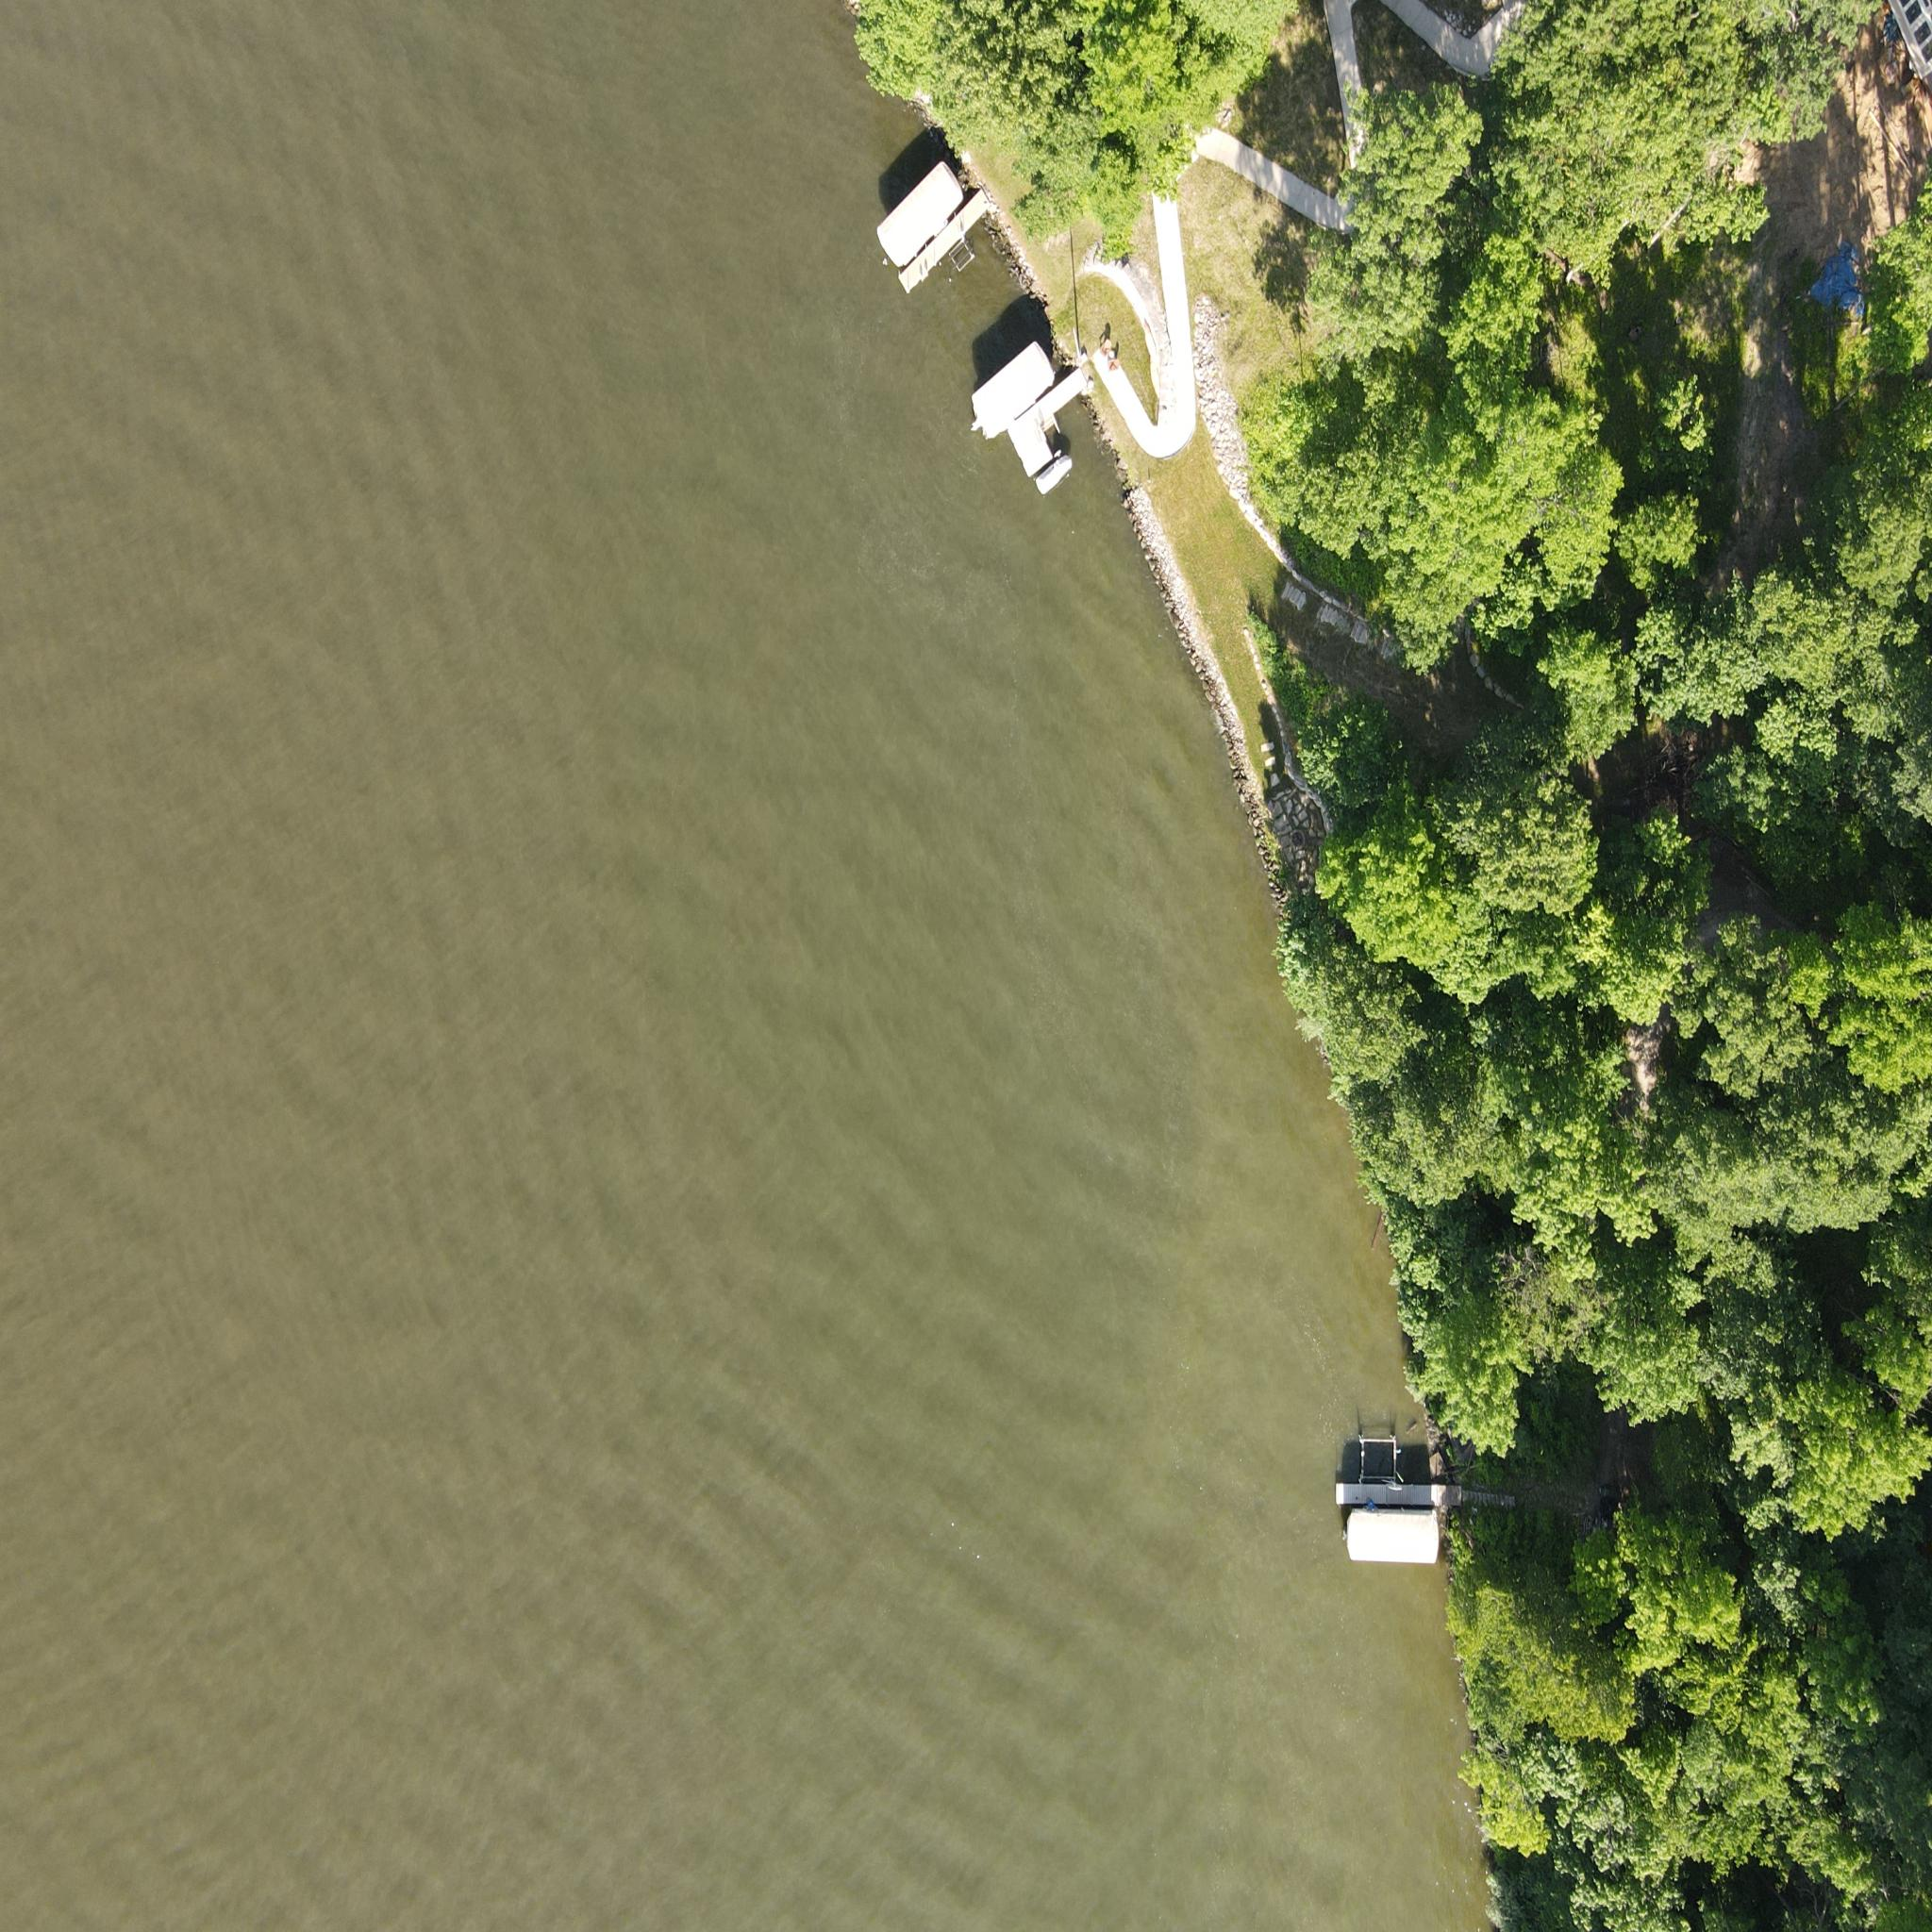dock: (987, 347, 1092, 483), (895, 175, 994, 301), (1322, 1460, 1467, 1520)
jetski: (1028, 451, 1076, 497)
lift: (869, 150, 968, 272), (964, 327, 1062, 446), (1329, 1502, 1451, 1575)
